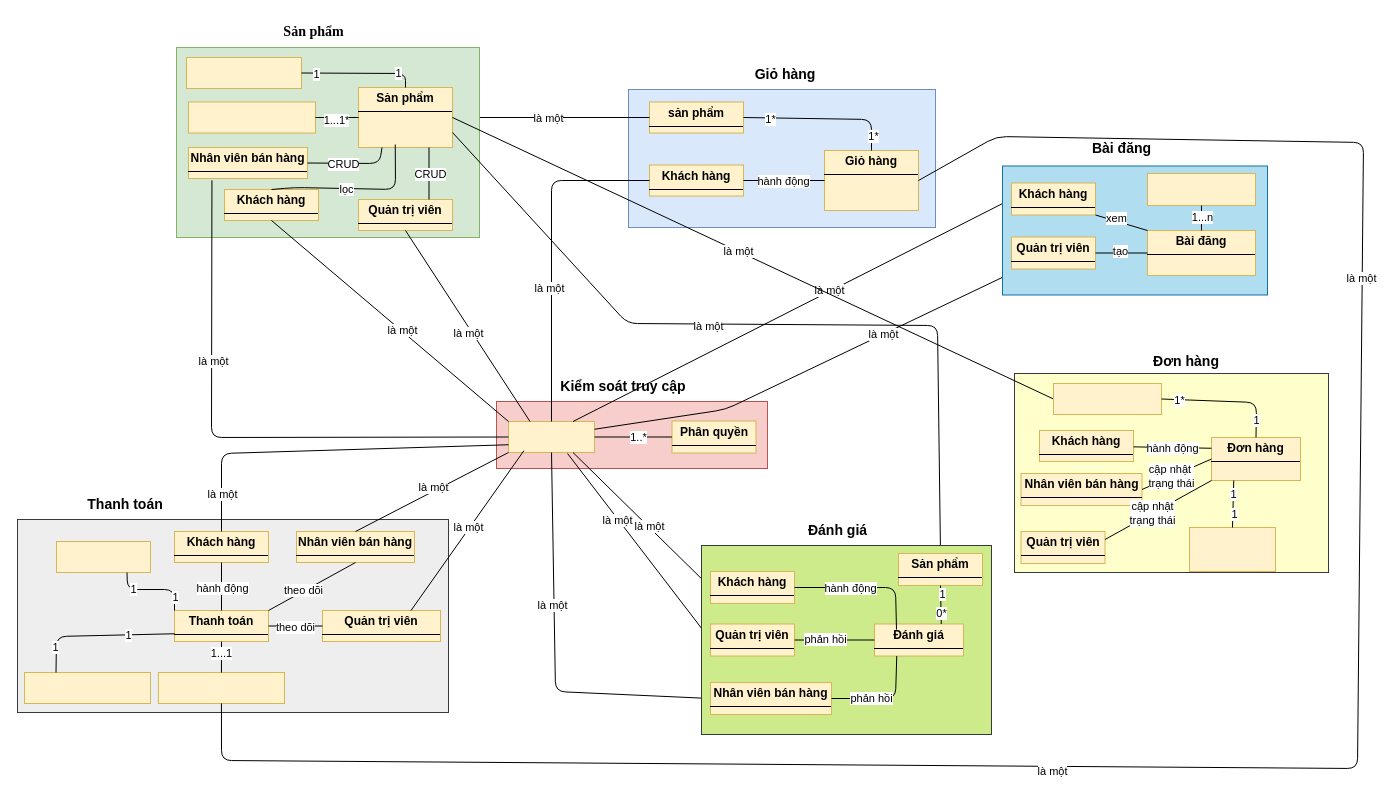
Image size: 1394x795. Some labels were removed from this diagram. Each missing label, with the centre of its shape:
chi tiết đơn hàng: point (1107, 398)
Chủ đề bài đăng: point (1201, 189)
Danh mục sản phẩm: point (252, 117)
Người dùng: point (551, 436)
Nhãn hàng: point (244, 72)
Phương thức thanh toán: point (103, 556)
Thông tin giỏ hàng: point (220, 688)
Trạng thái thanh toán: point (87, 688)
Trạng thái đơn hàng: point (1232, 549)
